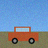vehicle: (8, 27, 38, 44)
